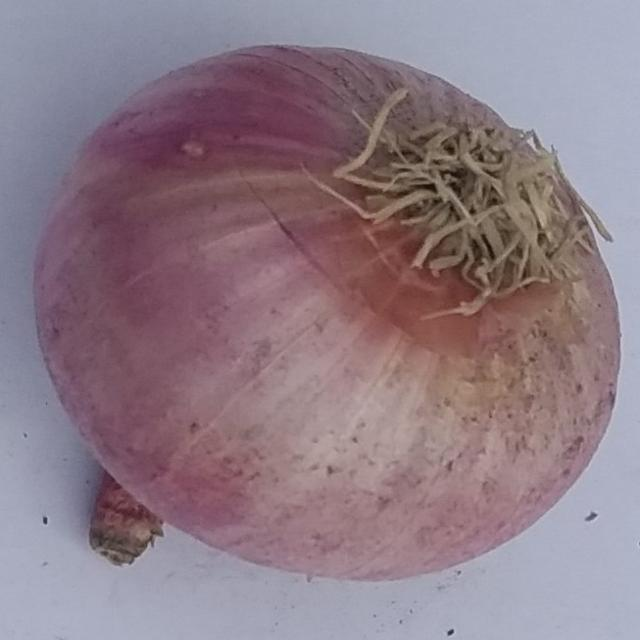onion: (31, 42, 626, 587)
